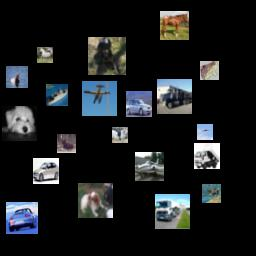airplane: (82, 81, 117, 116), (135, 152, 164, 181), (197, 124, 213, 140)
automobile: (6, 202, 38, 234), (126, 91, 152, 117), (33, 158, 59, 184)
bird: (6, 66, 28, 88)
deer: (202, 184, 221, 203), (57, 134, 76, 153)
dog: (88, 37, 126, 75), (78, 183, 113, 218), (2, 106, 37, 141)
frog: (200, 61, 219, 80)
ship: (46, 84, 68, 106)
truck: (155, 194, 190, 229), (157, 79, 192, 114), (194, 143, 220, 169)
